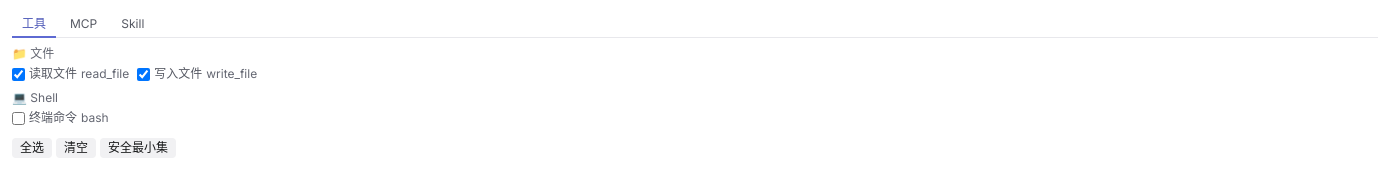
Test case: CapabilityTabs — Tab 结构 › 点击 Skill Tab 切换到 Skill 面板
The image size is (1378, 175).
Click the button "Skill" at (133, 25), box [111,12,154,38]
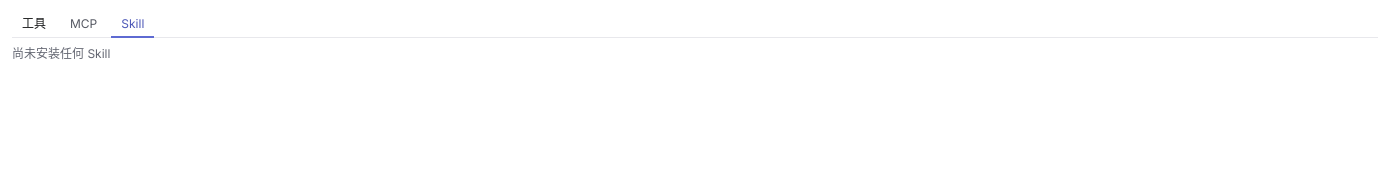
Expected: the text "尚未安装任何 Skill" is shown, [12,46,110,61]
